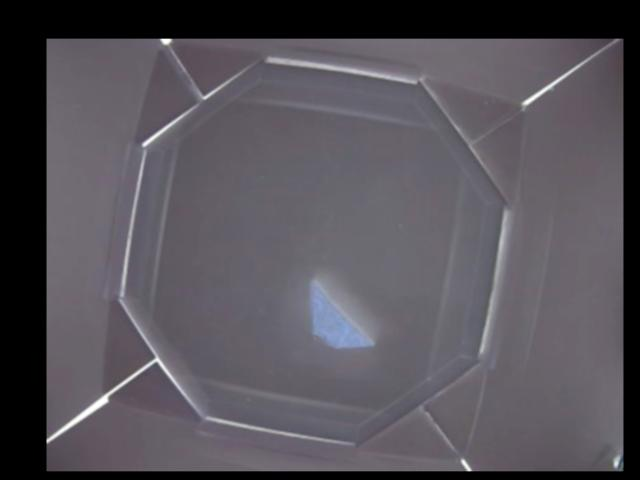China: (309, 276, 371, 349)
